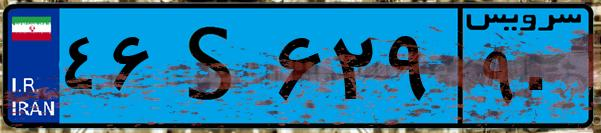0: (525, 38, 570, 115)
2: (330, 28, 385, 110)
4: (57, 26, 110, 100)
6: (270, 28, 330, 110), (110, 28, 158, 98)
9: (385, 28, 445, 110), (475, 38, 525, 113)
S: (158, 12, 270, 120)
